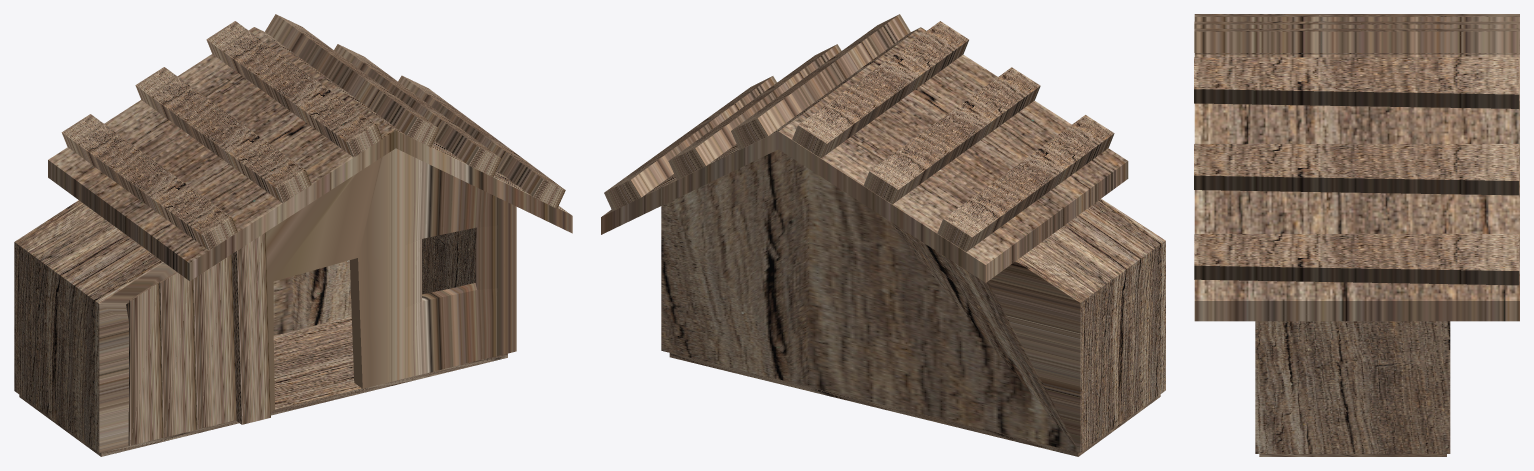
File: StoreHouse.fbx
3 renders of one model, left to right at view 1: azimuth 30°, elevation 25°; view 2: azimuth 150°, elevation 25°; view 3: azimuth 270°, elevation 25°, orthographic. The views are drawn at different scales.
Parts seen in each view (by area): view 1: StoreHouse, Floor; view 2: StoreHouse, Floor; view 3: StoreHouse, Floor.
Boxes of the visible parts, bbox=[...] form: StoreHouse: bbox=[14, 14, 572, 452]; Floor: bbox=[19, 316, 507, 456]; StoreHouse: bbox=[601, 14, 1165, 452]; Floor: bbox=[669, 353, 1160, 456]; StoreHouse: bbox=[1194, 14, 1519, 453]; Floor: bbox=[1259, 454, 1446, 456].
Bounding box in the file's own units: 1820 × 1141 × 1002.
